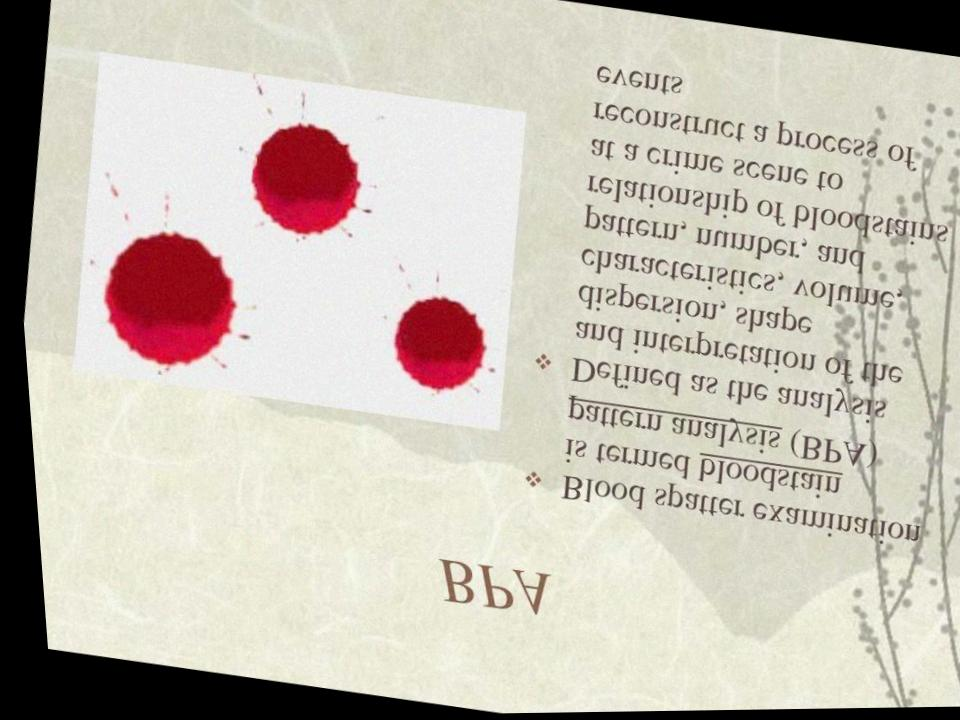Fire: (98, 232, 232, 371), (247, 124, 357, 236), (387, 297, 481, 393)
